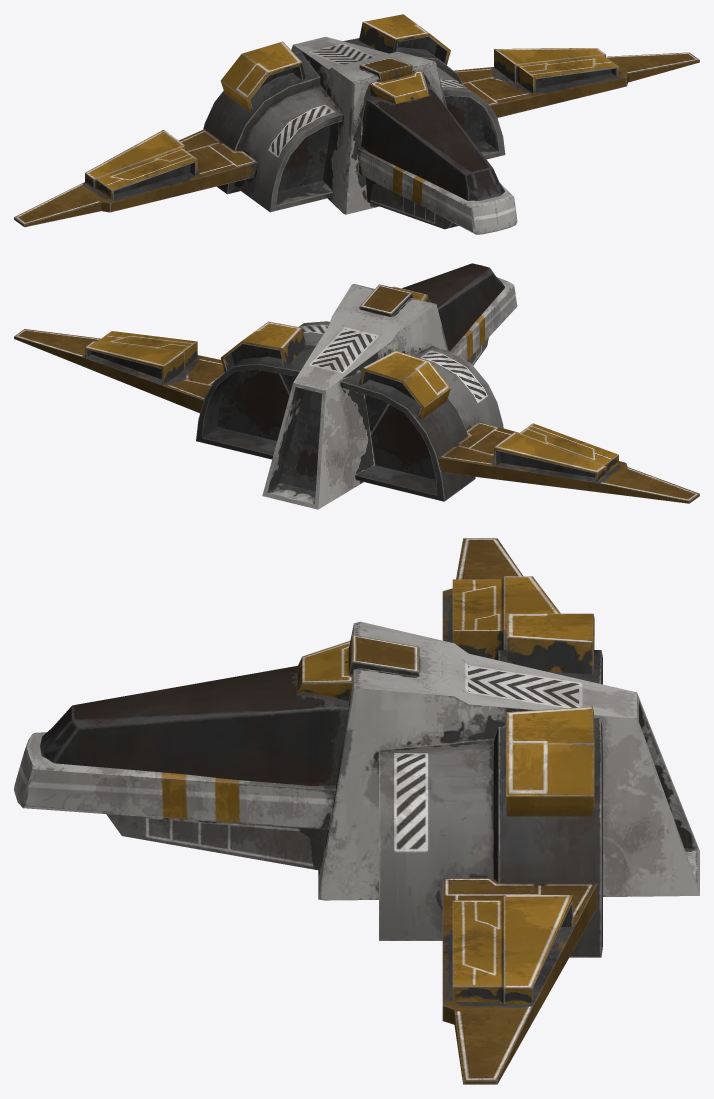
The model's file is quaternius-spaceships-pack-bob.glb.
3 renders of one model, top to bottom at view 1: azimuth 30°, elevation 25°; view 2: azimuth 150°, elevation 25°; view 3: azimuth 270°, elevation 25°, orthographic. The views are drawn at different scales.
Visible parts, largest first — view 1: Bob; view 2: Bob; view 3: Bob.
Boxes of the visible parts, x1,y1,x2,y2 form: Bob: [14, 14, 699, 234]; Bob: [14, 263, 699, 509]; Bob: [14, 538, 699, 1084].
Size of the model in its own units: 10.5 by 2.03 by 5.61.
Materials: 1 (1 with a texture image).
